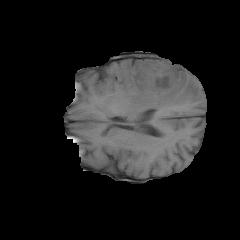glioma: (114, 59, 199, 109)
